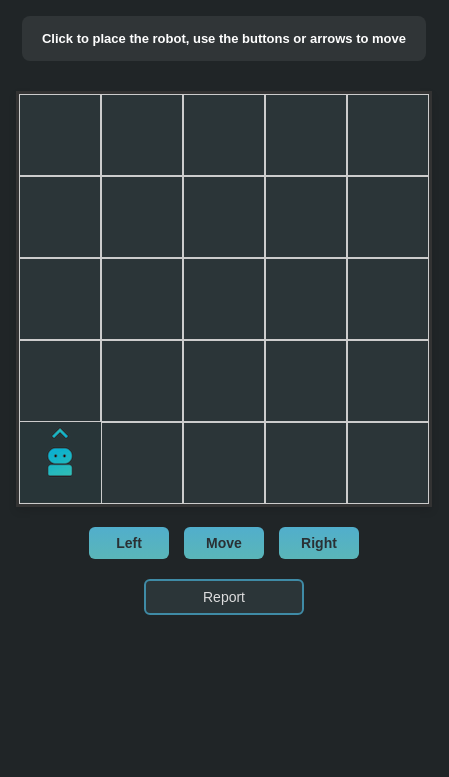
RobotGrid Integration › should complete a full robot movement sequence
Click the button "Move".
click(224, 543)  # box left=184, top=527, right=264, bottom=559
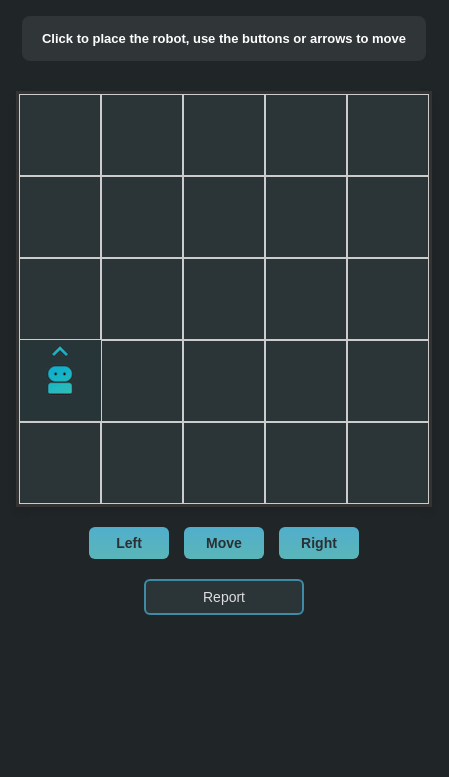
Click the button "Right".
click(319, 543)  # box left=279, top=527, right=359, bottom=559
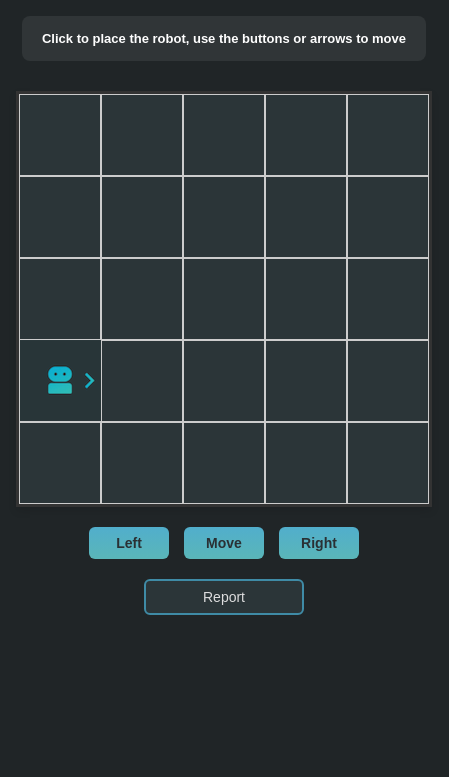
Click the button "Move".
click(224, 543)  # box left=184, top=527, right=264, bottom=559
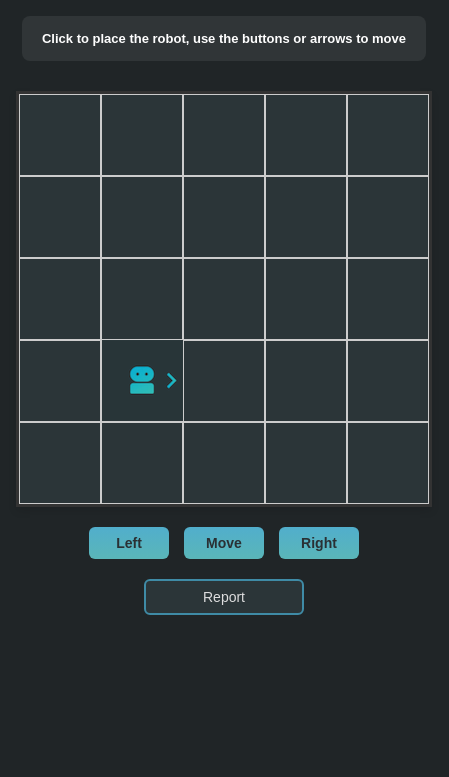
Click the button "Report".
click(224, 597)  # box left=144, top=579, right=304, bottom=615
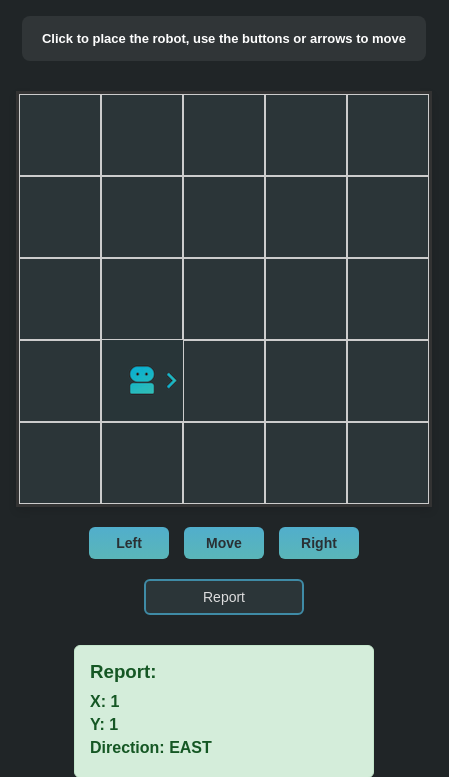
Result: the heading "Report:" is shown at left=90, top=661, right=156, bottom=682
